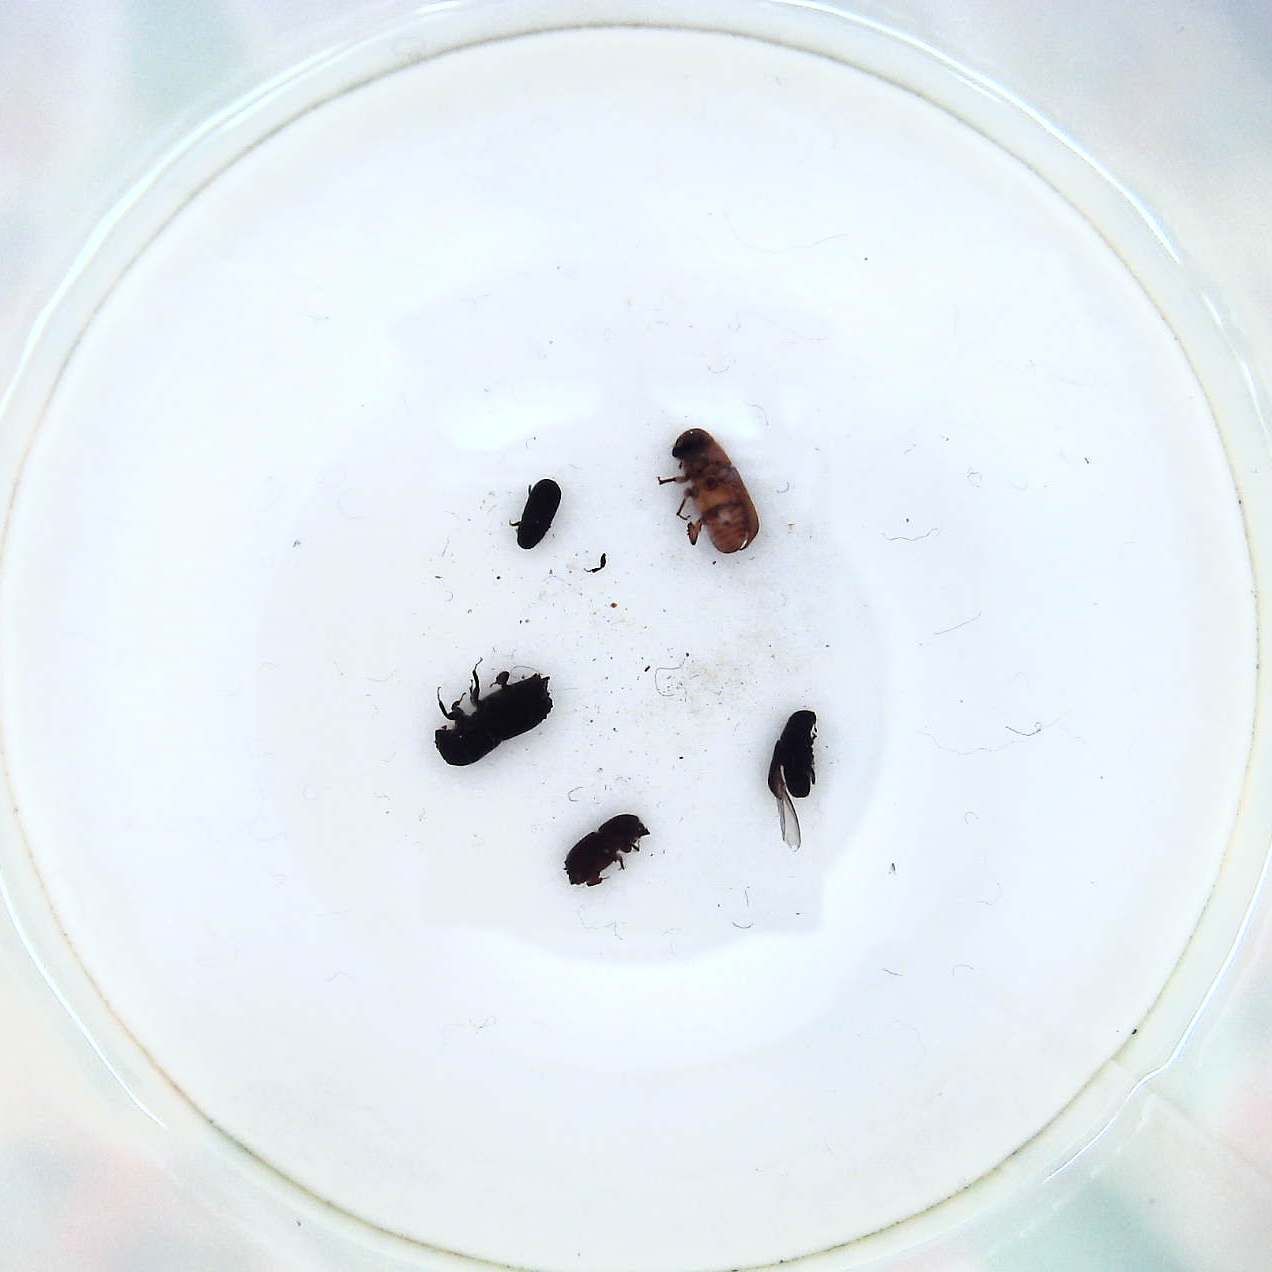Boerner: (430, 665, 557, 772)
Leconte: (653, 427, 765, 560)
armandi: (762, 706, 831, 840)
coleoptera: (509, 469, 563, 553)
linnaeus: (561, 811, 653, 886)
